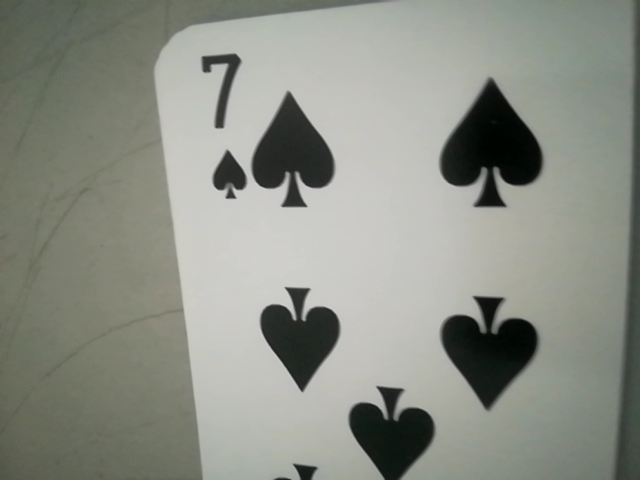ht 7: (179, 48, 259, 214)
